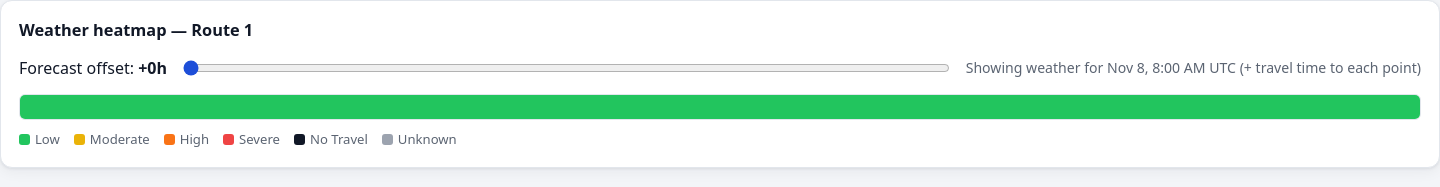
Test: HeatmapPanel › moving the slider calls the API with the new hour offset
The width and height of the screenshot is (1440, 187).
Set the slider named "forecast hour offset" to "12". click: (379, 68)
box: [183,60,950,76]
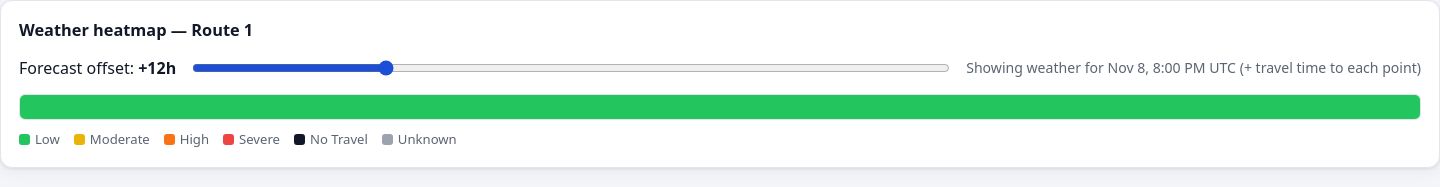
expect the text "+12h" is shown: met, box [138,57,176,79]
